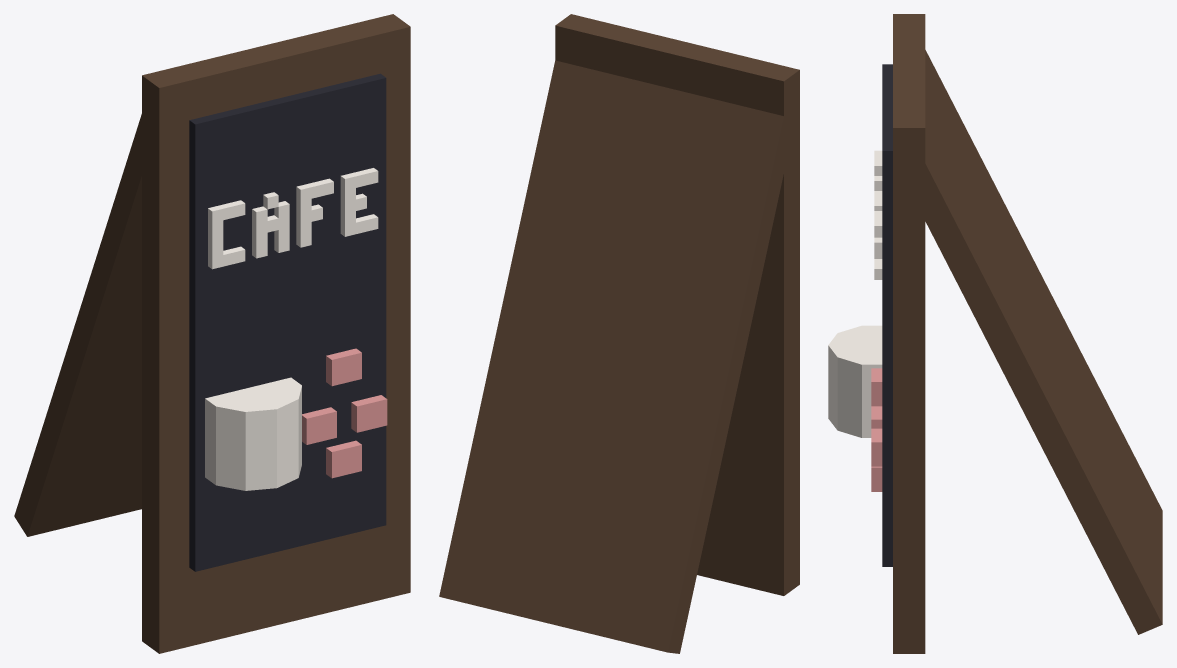
The model's file is CatCafe_Plot_Tier1.glb.
3 views of the same model, side by side, from view 1: azimuth 30°, elevation 25°; view 2: azimuth 150°, elevation 25°; view 3: azimuth 270°, elevation 25° (orthographic). The views are drawn at different scales.
Parts seen in each view (by area): view 1: CatCafe_Plot_Tier1; view 2: CatCafe_Plot_Tier1; view 3: CatCafe_Plot_Tier1.
Part boxes in pixels (x1,y1,x2,y2): CatCafe_Plot_Tier1: (14,14,410,653); CatCafe_Plot_Tier1: (439,14,799,653); CatCafe_Plot_Tier1: (828,14,1162,653).
Size of the model in its own units: 1 by 2.15 by 1.24.
Materials: 1 (1 with a texture image).
